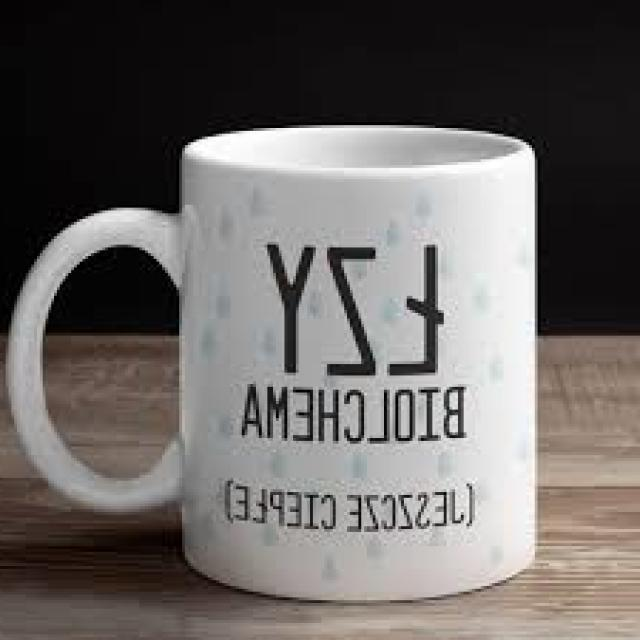Coffee Mug: (1, 120, 542, 605)
